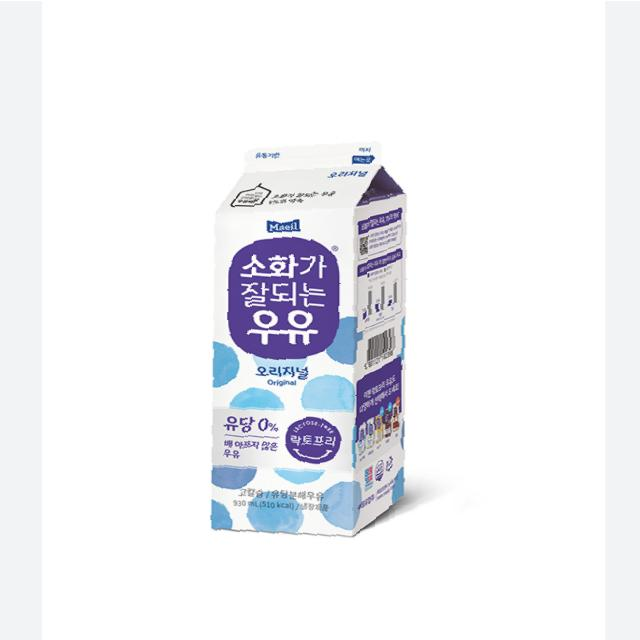biodegradable: (153, 102, 484, 598)
